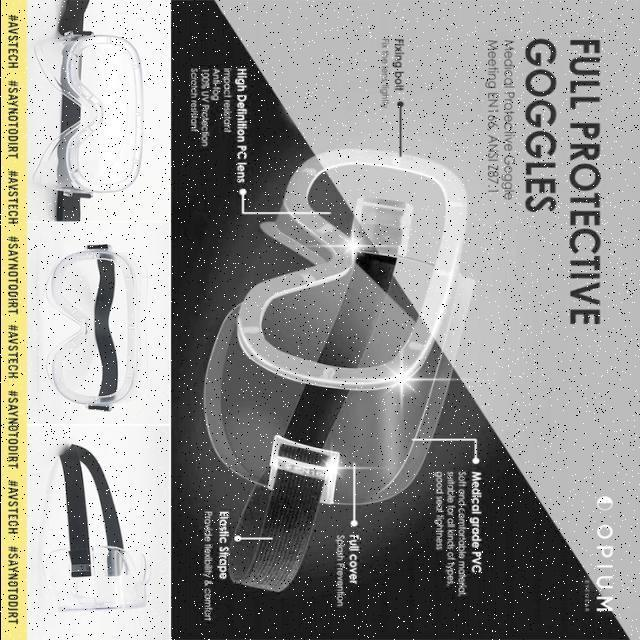goggles_on: (208, 134, 477, 594), (31, 12, 168, 222), (32, 436, 164, 628), (32, 234, 162, 416)
